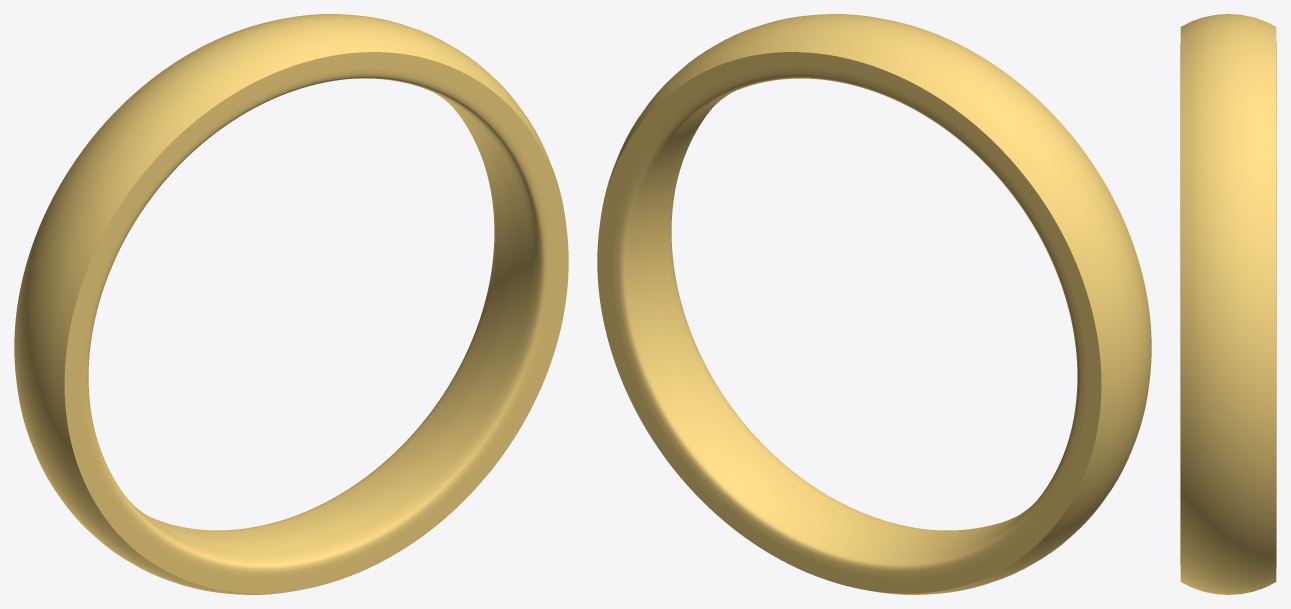
Rendered from PeterYGwb_blender.glb.
The picture shows the model from 3 angles, left to right: view 1: azimuth 30°, elevation 25°; view 2: azimuth 150°, elevation 25°; view 3: azimuth 270°, elevation 25°; orthographic projection. The views are drawn at different scales.
Visible parts, largest first — view 1: Peter YG for 3d model; view 2: Peter YG for 3d model; view 3: Peter YG for 3d model.
Part boxes in pixels (bbox=[...]): Peter YG for 3d model: bbox=[14, 14, 568, 594]; Peter YG for 3d model: bbox=[597, 14, 1151, 594]; Peter YG for 3d model: bbox=[1180, 14, 1276, 594].
Bounding box in the file's own units: 23.6 × 23.6 × 3.9.
